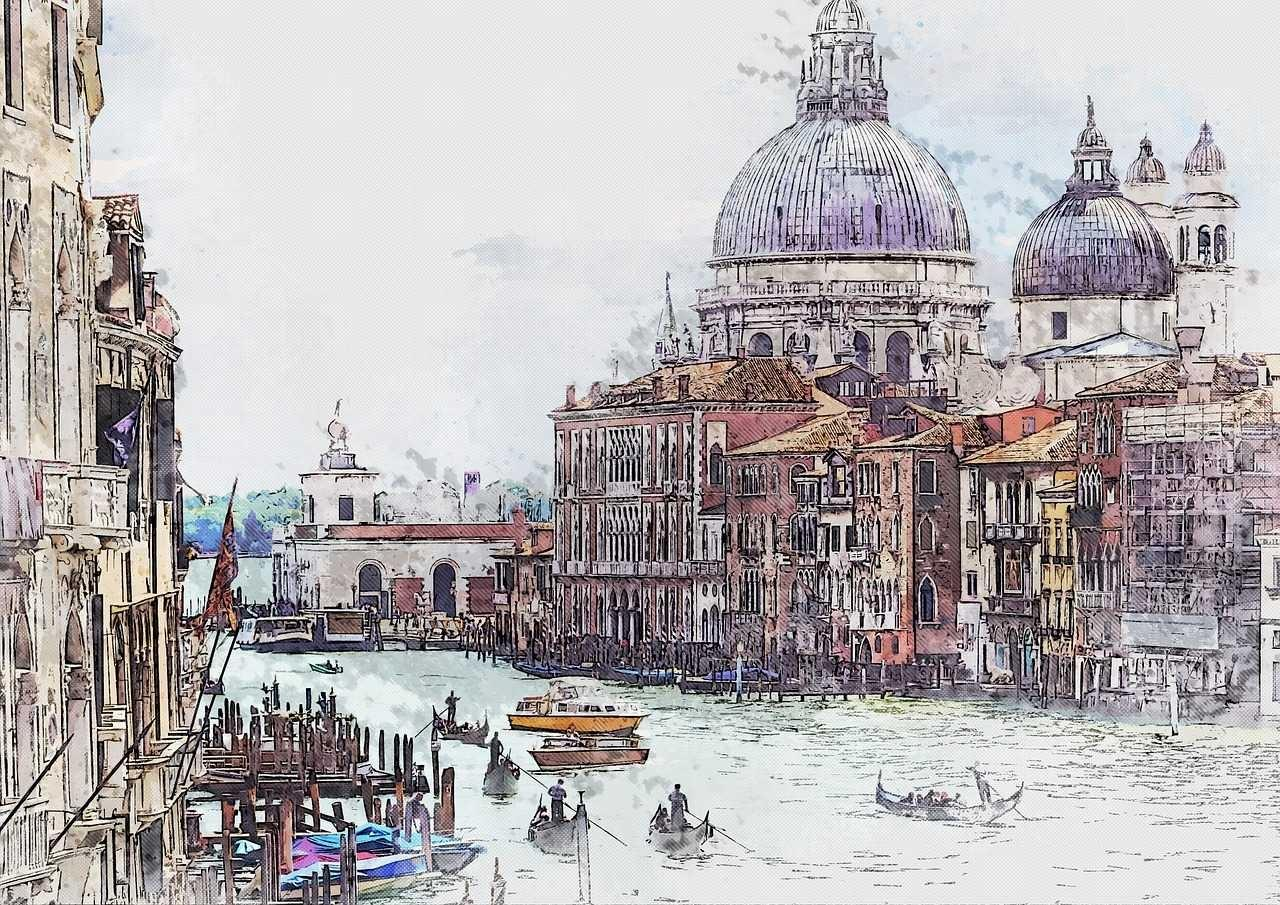kayak: (287, 827, 487, 886), (874, 772, 1025, 825), (506, 678, 650, 733), (525, 735, 650, 771), (646, 808, 713, 855), (531, 800, 585, 855), (434, 712, 490, 746)
